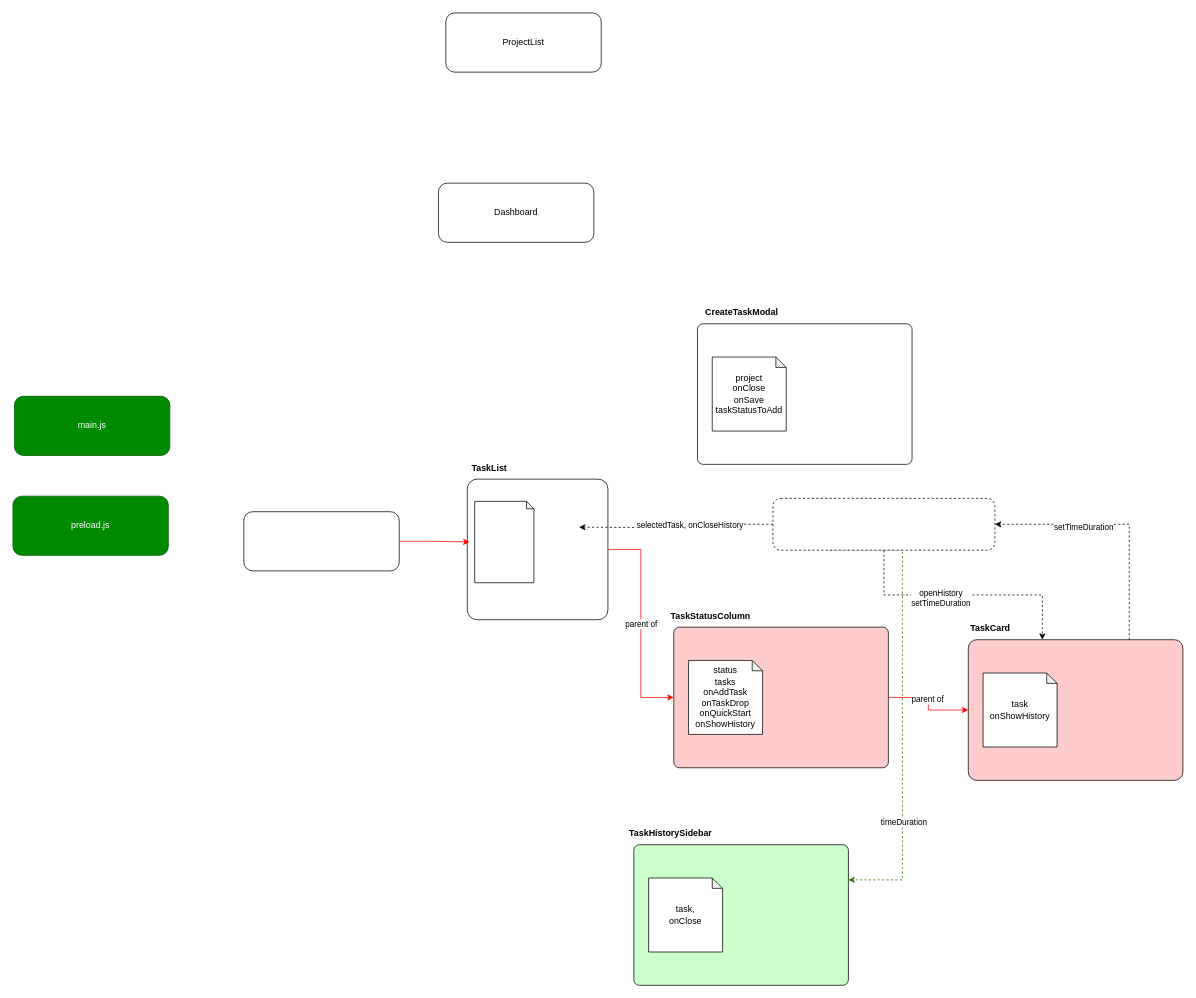
The diagram is 1196 pixels wide and 998 high, and some of its shapes have lost their labels. Here are the shapes that lost their labels. From the top down, the centre of each, then its label:
the point at 321,541: App.jsx
the point at 504,542: tasks project onTaskSelect
the point at 883,524: TaskHistoryContext (selectedTask, openHistory, closeHistory)
